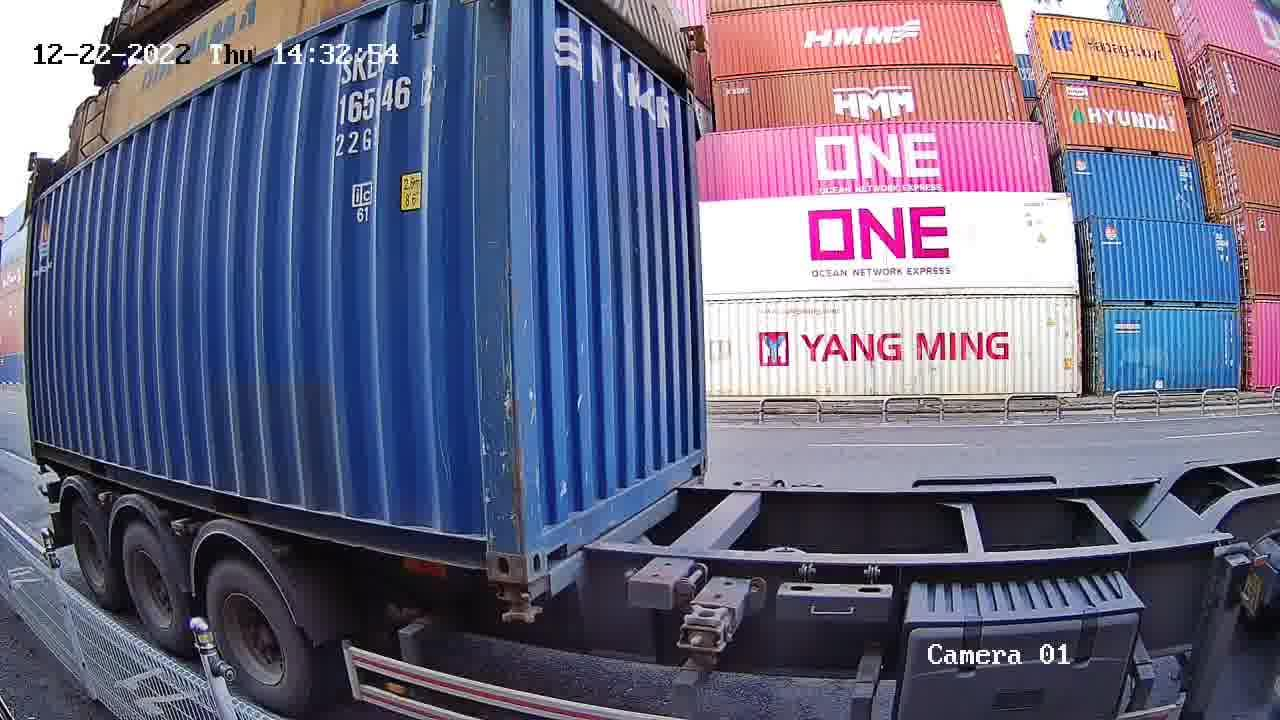Chassis: (494, 475, 704, 604)
Cone: (489, 581, 542, 622)
Hole_L: (523, 507, 566, 582)
Hole_R: (455, 515, 524, 580), (687, 446, 710, 478)
Tire: (205, 564, 305, 708), (121, 526, 184, 642), (70, 505, 111, 600)
